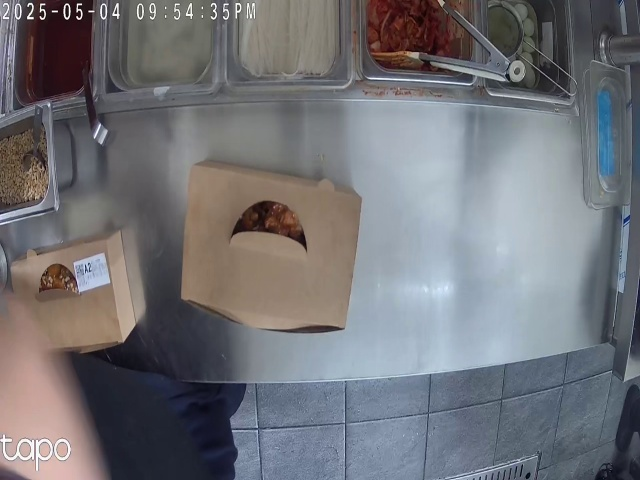closed delivery box: (197, 162, 360, 328), (19, 252, 138, 343)
